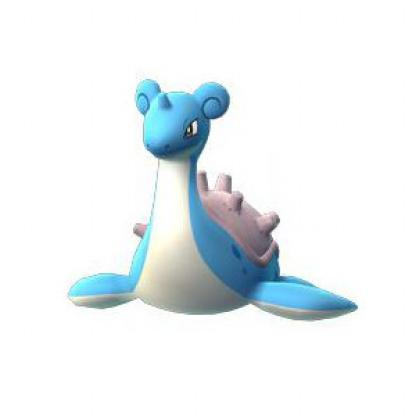Lapras: (38, 53, 381, 350)
